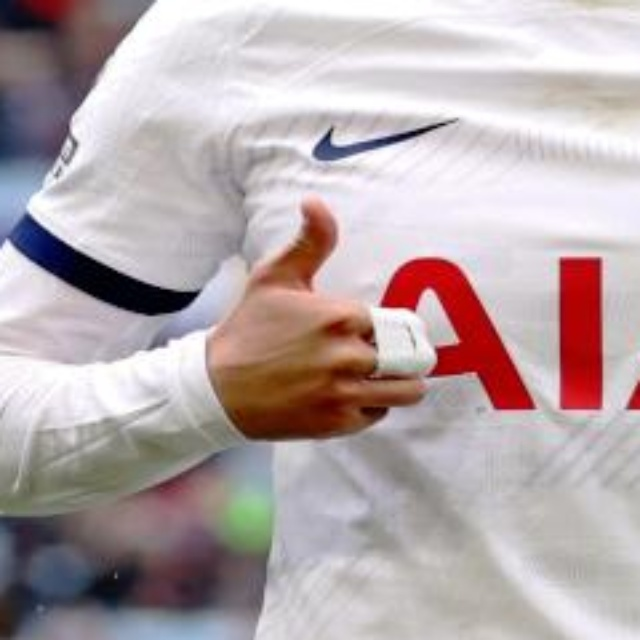thumbs_up: (205, 187, 435, 453)
